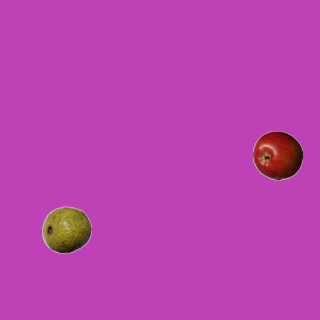Apple Braeburn: (252, 130, 302, 180)
Guava: (41, 204, 91, 254)
